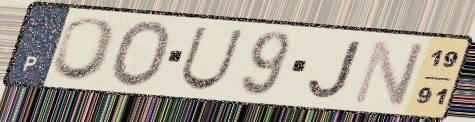9: (236, 29, 297, 99)
J: (305, 38, 365, 101)
N: (348, 36, 430, 109)
O: (46, 16, 122, 84), (107, 18, 175, 90)
U: (176, 24, 247, 92)
